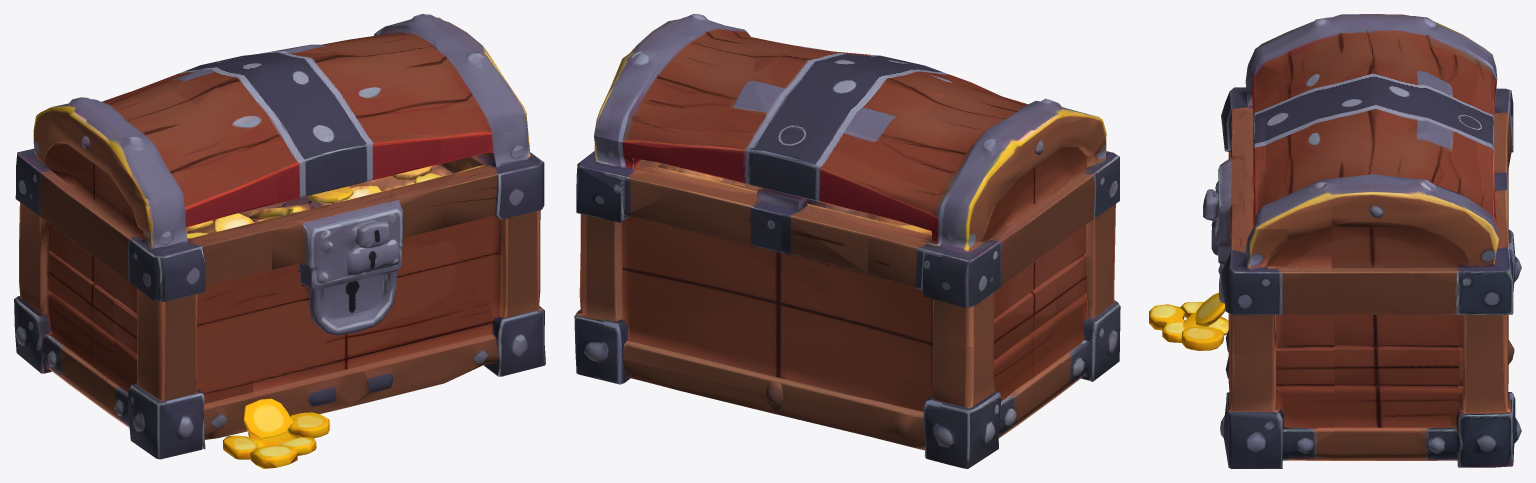
The model's file is treasure-chest.glb.
The picture shows the model from 3 angles, left to right: view 1: azimuth 30°, elevation 25°; view 2: azimuth 150°, elevation 25°; view 3: azimuth 270°, elevation 25°; orthographic projection. The views are drawn at different scales.
Size of the model in its own units: 1.88 by 1.3 by 1.54.
1 material, 1 textured.
